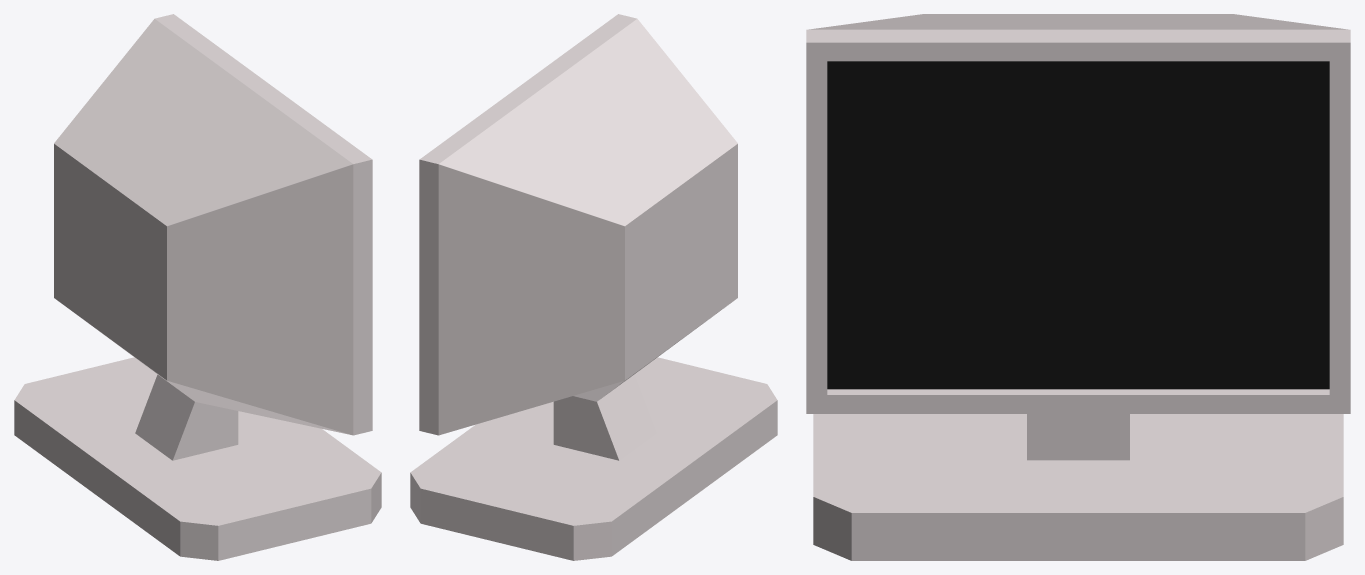
3 views of the same model, side by side, from view 1: azimuth 30°, elevation 25°; view 2: azimuth 150°, elevation 25°; view 3: azimuth 270°, elevation 25° (orthographic). The views are drawn at different scales.
Visible parts, largest first — view 1: PC; view 2: PC; view 3: PC.
Part boxes in pixels (left/top/right/bottom): PC: left=14, top=14, right=381, bottom=560; PC: left=410, top=14, right=777, bottom=560; PC: left=806, top=14, right=1350, bottom=560.
Size of the model in its own units: 1.2 by 2.09 by 2.05.
2 materials, 2 textured.
